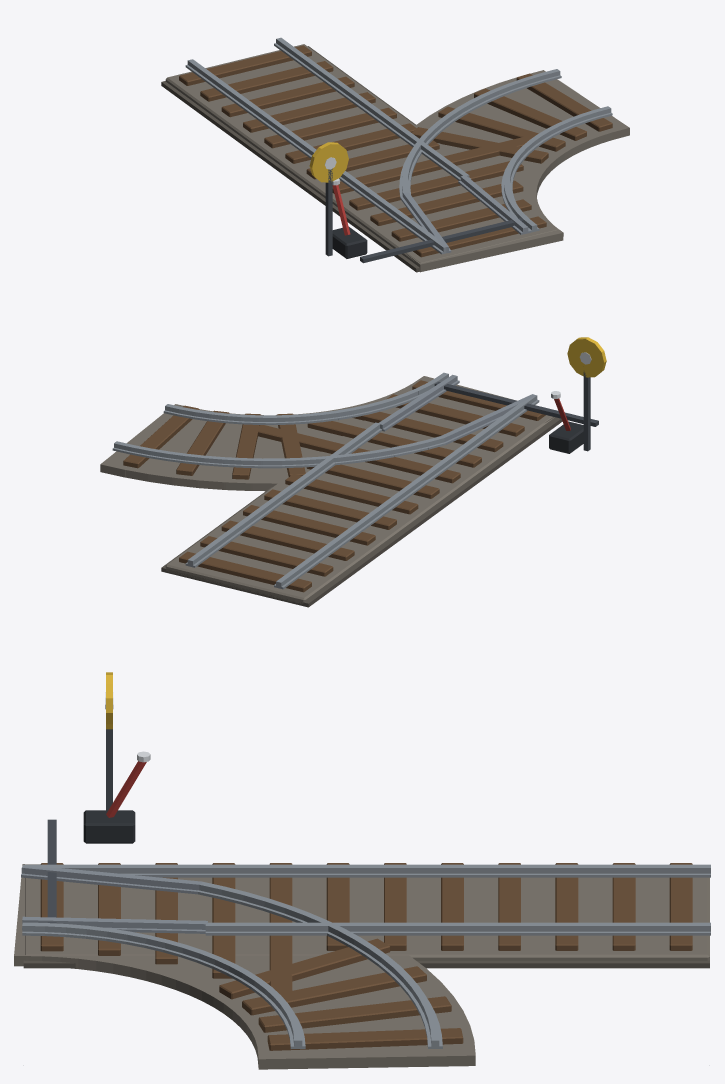
Rendered from rail_aiguillage_d_devie.glb.
3 views of the same model, one above another, from view 1: azimuth 30°, elevation 25°; view 2: azimuth 150°, elevation 25°; view 3: azimuth 270°, elevation 25° (orthographic). The views are drawn at different scales.
Parts seen in each view (by area): view 1: rail_ballast.016, rail_traverse.018, rail_rail.018, rail_ballast_sombre.010, rail_acier_sombre.008, rail_acier.008, rail_jaune.004, rail_fonte.008; view 2: rail_ballast.016, rail_traverse.018, rail_rail.018, rail_ballast_sombre.010, rail_acier.008, rail_acier_sombre.008, rail_jaune.004, rail_fonte.008; view 3: rail_ballast.016, rail_traverse.018, rail_rail.018, rail_acier.008, rail_ballast_sombre.010, rail_fonte.008, rail_acier_sombre.008.
Part boxes in pixels (x1=…): rail_ballast.016: x1=165, y1=44, x2=629, y2=272; rail_traverse.018: x1=179, y1=45, x2=612, y2=257; rail_rail.018: x1=185, y1=37, x2=612, y2=254; rail_ballast_sombre.010: x1=161, y1=46, x2=563, y2=272; rail_acier_sombre.008: x1=325, y1=168, x2=523, y2=263; rail_acier.008: x1=400, y1=175, x2=530, y2=253; rail_jaune.004: x1=309, y1=142, x2=348, y2=182; rail_fonte.008: x1=332, y1=227, x2=367, y2=258; rail_ballast.016: x1=100, y1=376, x2=557, y2=604; rail_traverse.018: x1=123, y1=380, x2=545, y2=592; rail_rail.018: x1=112, y1=372, x2=539, y2=589; rail_ballast_sombre.010: x1=161, y1=418, x2=562, y2=607; rail_acier.008: x1=378, y1=374, x2=538, y2=444; rail_acier_sombre.008: x1=434, y1=371, x2=598, y2=451; rail_jaune.004: x1=567, y1=337, x2=606, y2=377; rail_fonte.008: x1=549, y1=421, x2=583, y2=453; rail_ballast.016: x1=14, y1=864, x2=709, y2=1069; rail_traverse.018: x1=40, y1=863, x2=692, y2=1050; rail_rail.018: x1=22, y1=864, x2=710, y2=1048; rail_acier.008: x1=21, y1=866, x2=207, y2=933; rail_ballast_sombre.010: x1=23, y1=960, x2=709, y2=968; rail_fonte.008: x1=83, y1=810, x2=135, y2=843; rail_acier_sombre.008: x1=47, y1=729, x2=112, y2=923.
Size of the model in its own units: 3.04 by 0.777 by 3.05.
